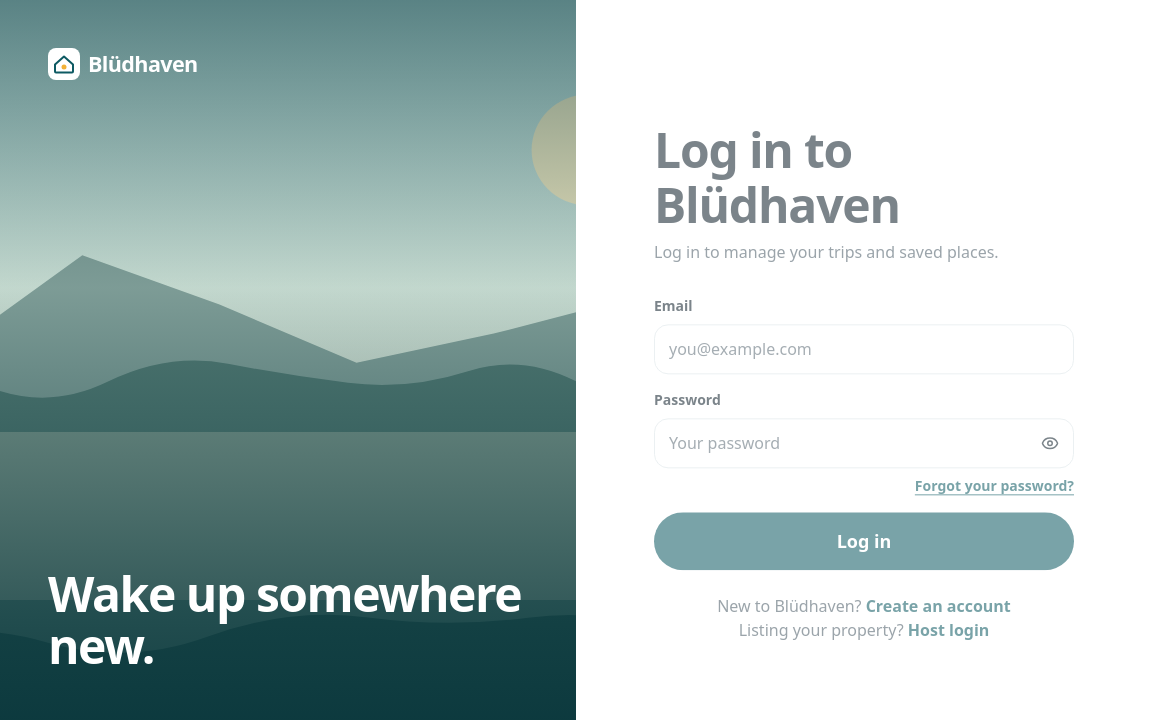
Test: Login with an unverified account › does not offer the resend button for ordinary wrong credentials
In the field labelled "Email": {"x": 864, "y": 350} left=654, top=324, right=1074, bottom=374, type "ada@example.com"
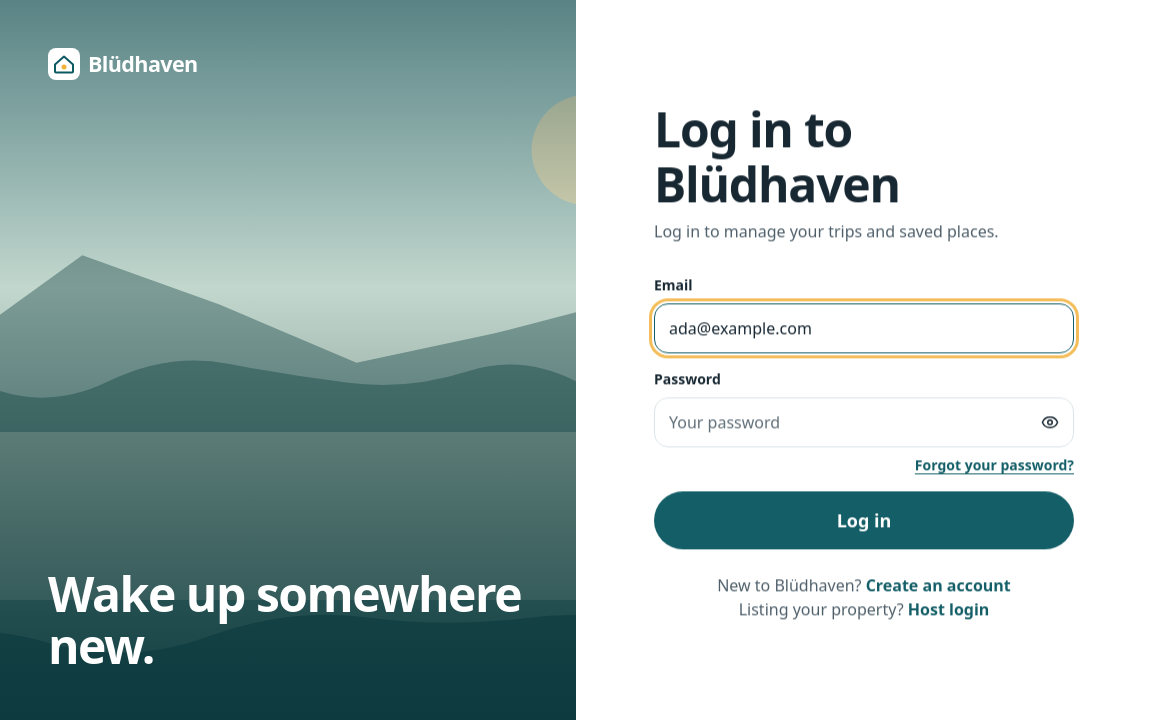
In the password field labelled "Password": {"x": 864, "y": 422} left=654, top=398, right=1074, bottom=448, type "Secret-pass-123"
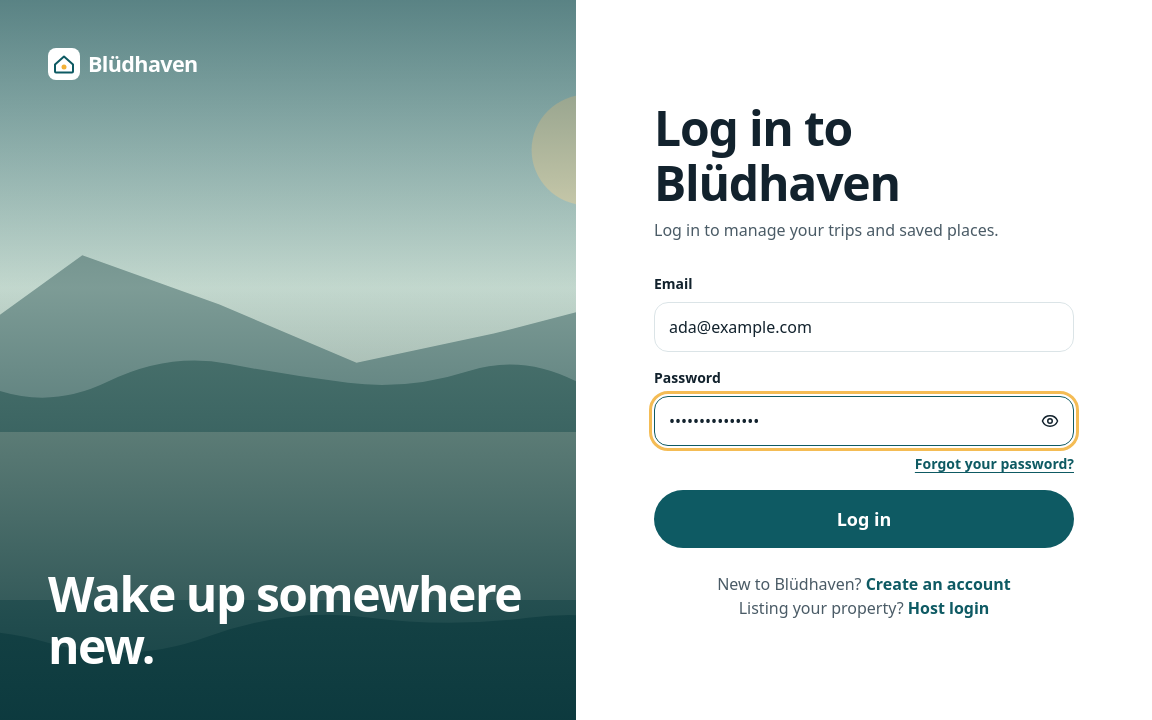
Click the button "Log in": {"x": 864, "y": 519} left=654, top=490, right=1074, bottom=548
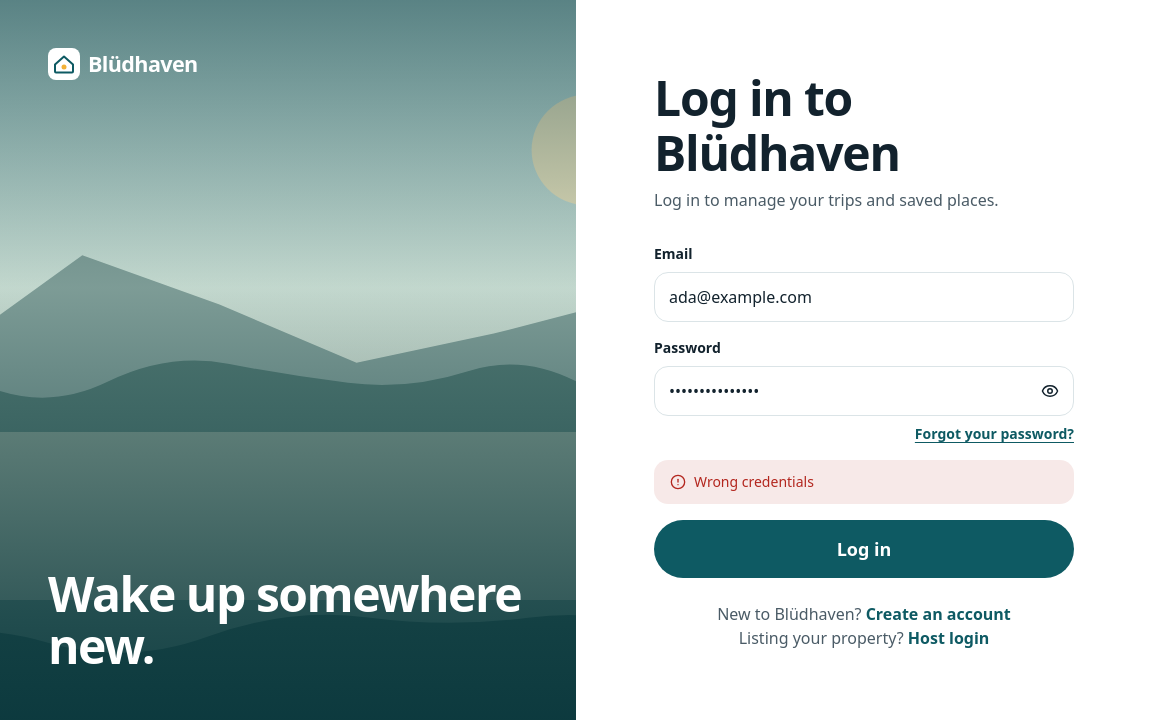
Expected: the text "Wrong credentials" is shown, left=694, top=472, right=814, bottom=492
